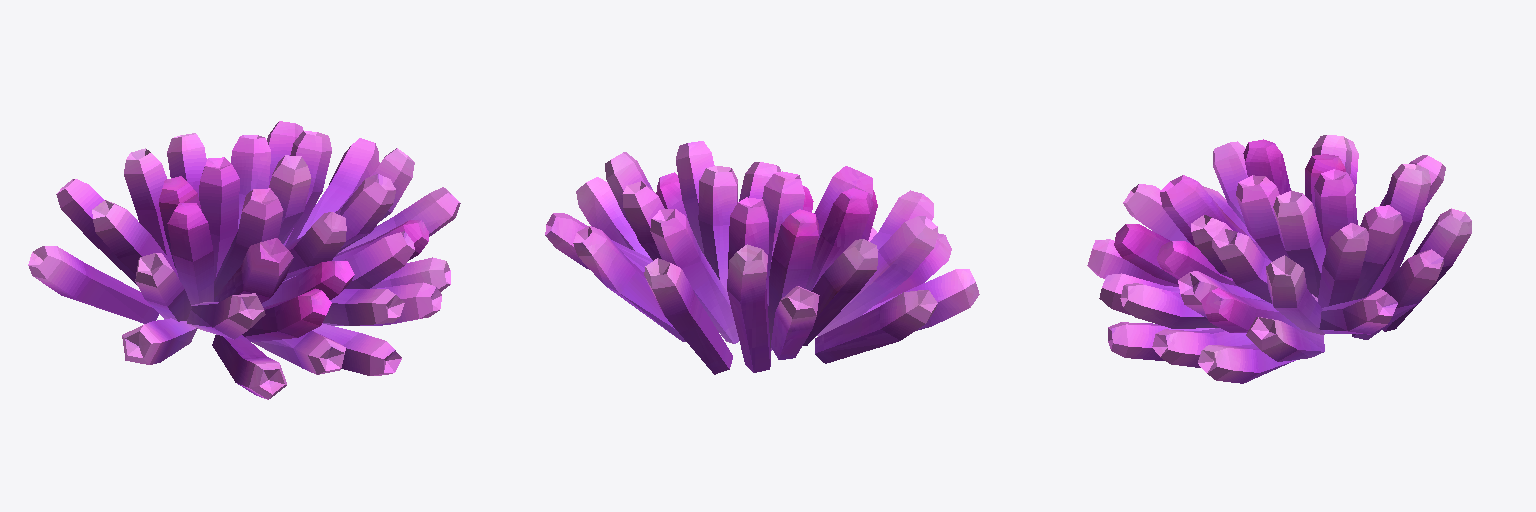
3 views of the same model, side by side, from view 1: azimuth 30°, elevation 25°; view 2: azimuth 150°, elevation 25°; view 3: azimuth 270°, elevation 25° (orthographic).
Parts seen in each view (by area): view 1: node_id63; view 2: node_id63; view 3: node_id63.
Boxes of the visible parts, x1,y1,x2,y2 form: node_id63: [28, 121, 460, 399]; node_id63: [545, 141, 979, 374]; node_id63: [1087, 135, 1471, 383].
Size of the model in its own units: 6.32 by 2.54 by 5.39.
1 materials, 1 textured.